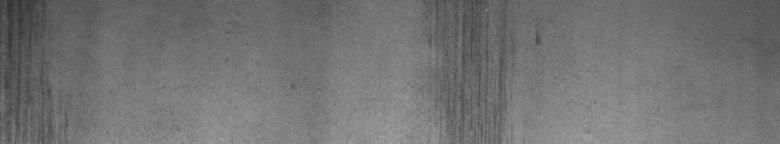ka: (428, 12, 541, 136)
